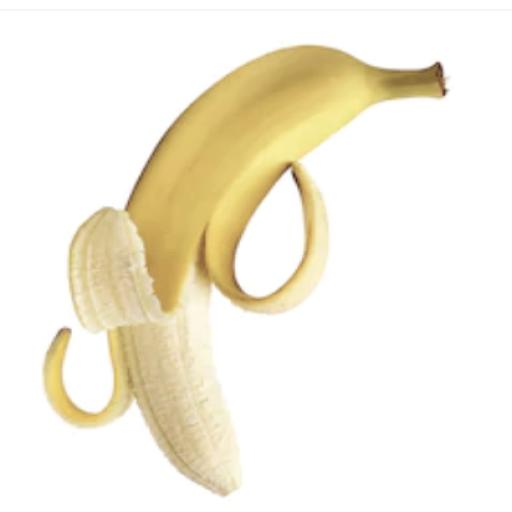banana: (45, 46, 446, 493)
